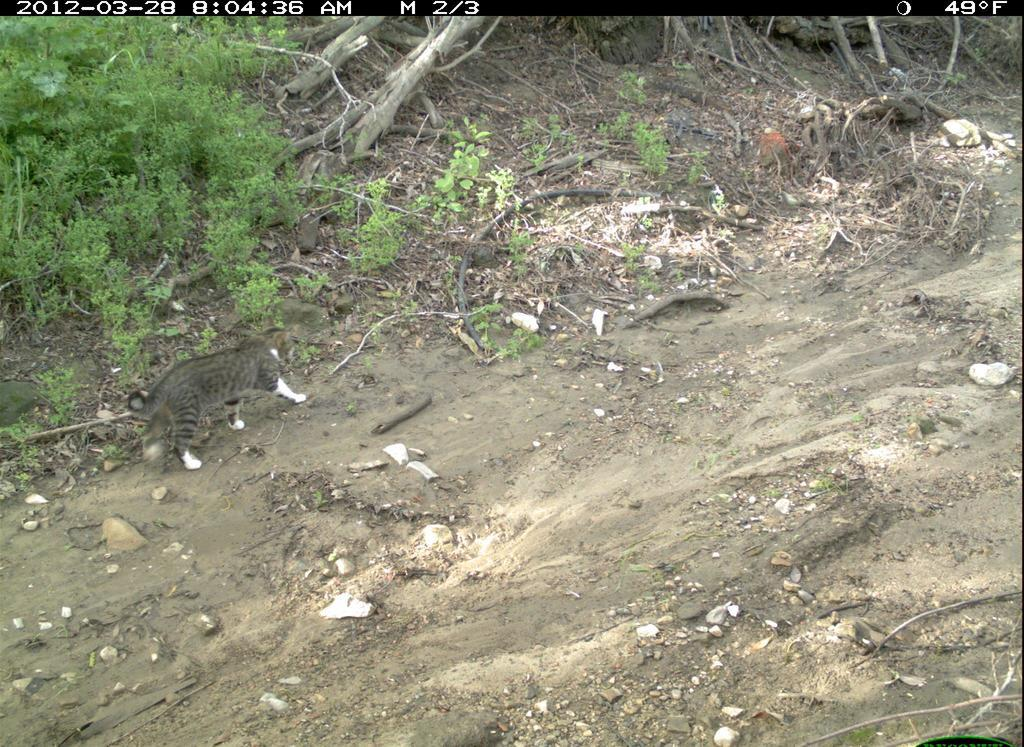cat: (109, 322, 319, 481)
